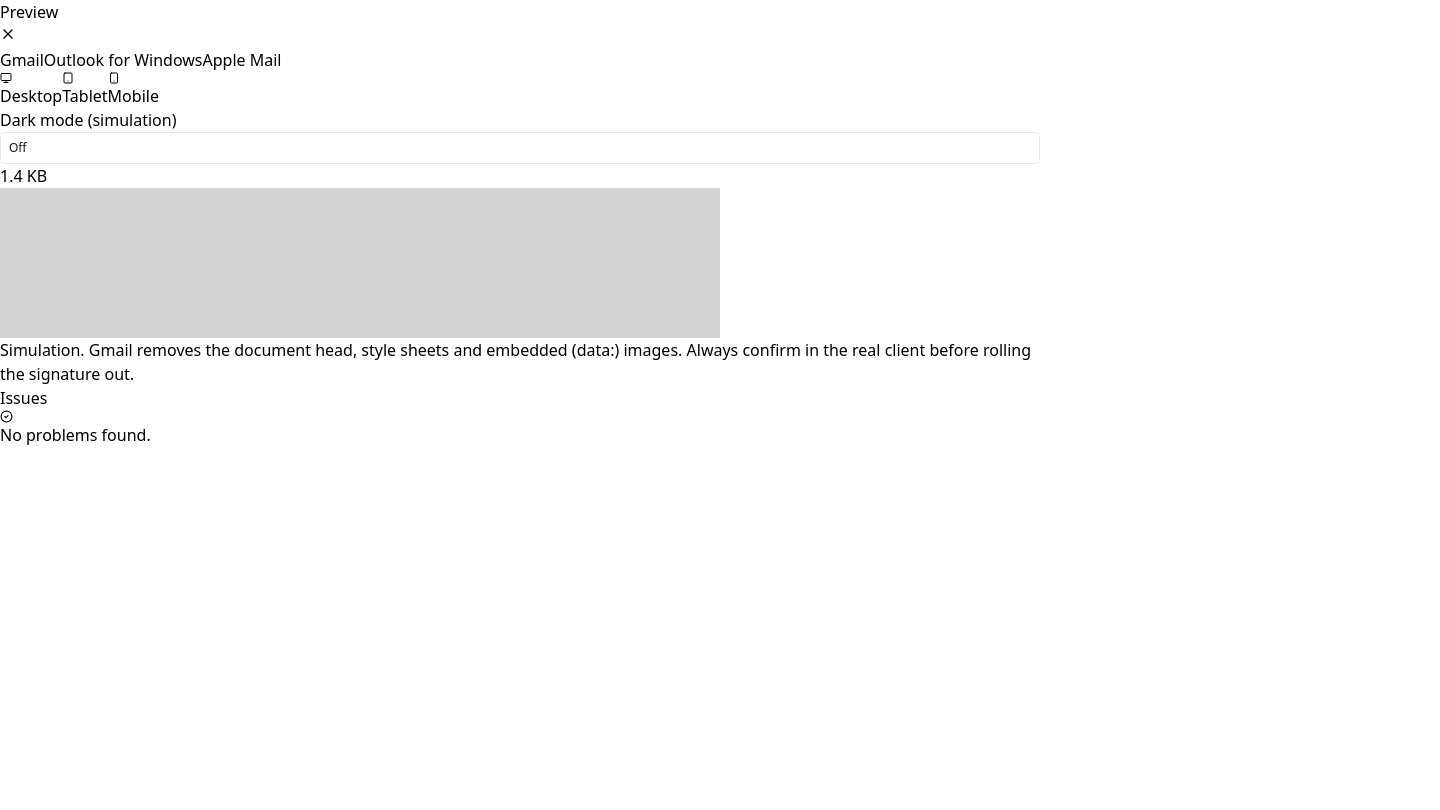
Preview → issues › labels the dark mode switch as a simulation and feeds the transforms into the iframe
Select "Full inversion (Gmail iOS / Outlook app)" in the dropdown labelled "Dark mode (simulation)": (520, 148) top-left (0, 132), bottom-right (1040, 164)
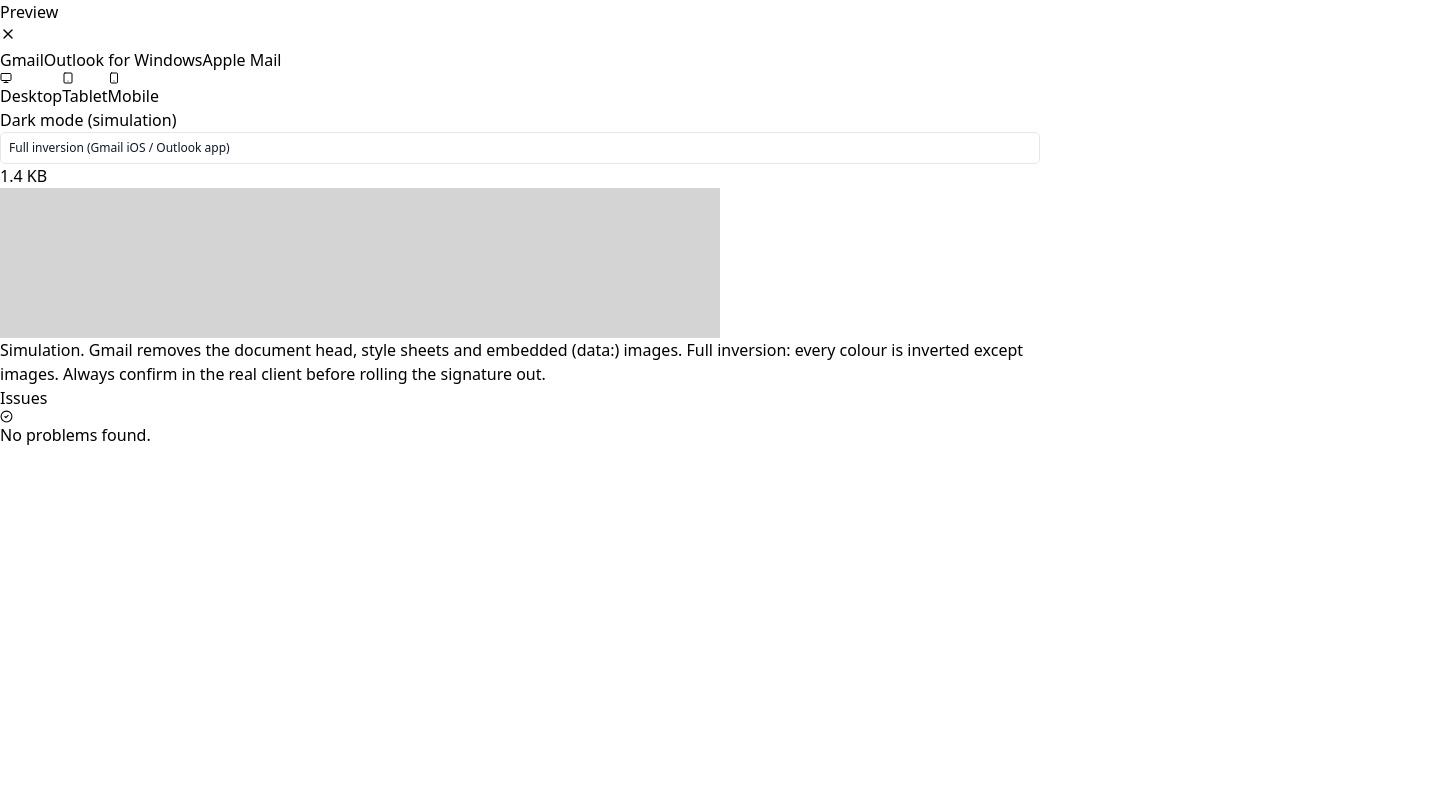
Click the tab "Outlook for Windows": (123, 60) top-left (44, 48), bottom-right (202, 72)
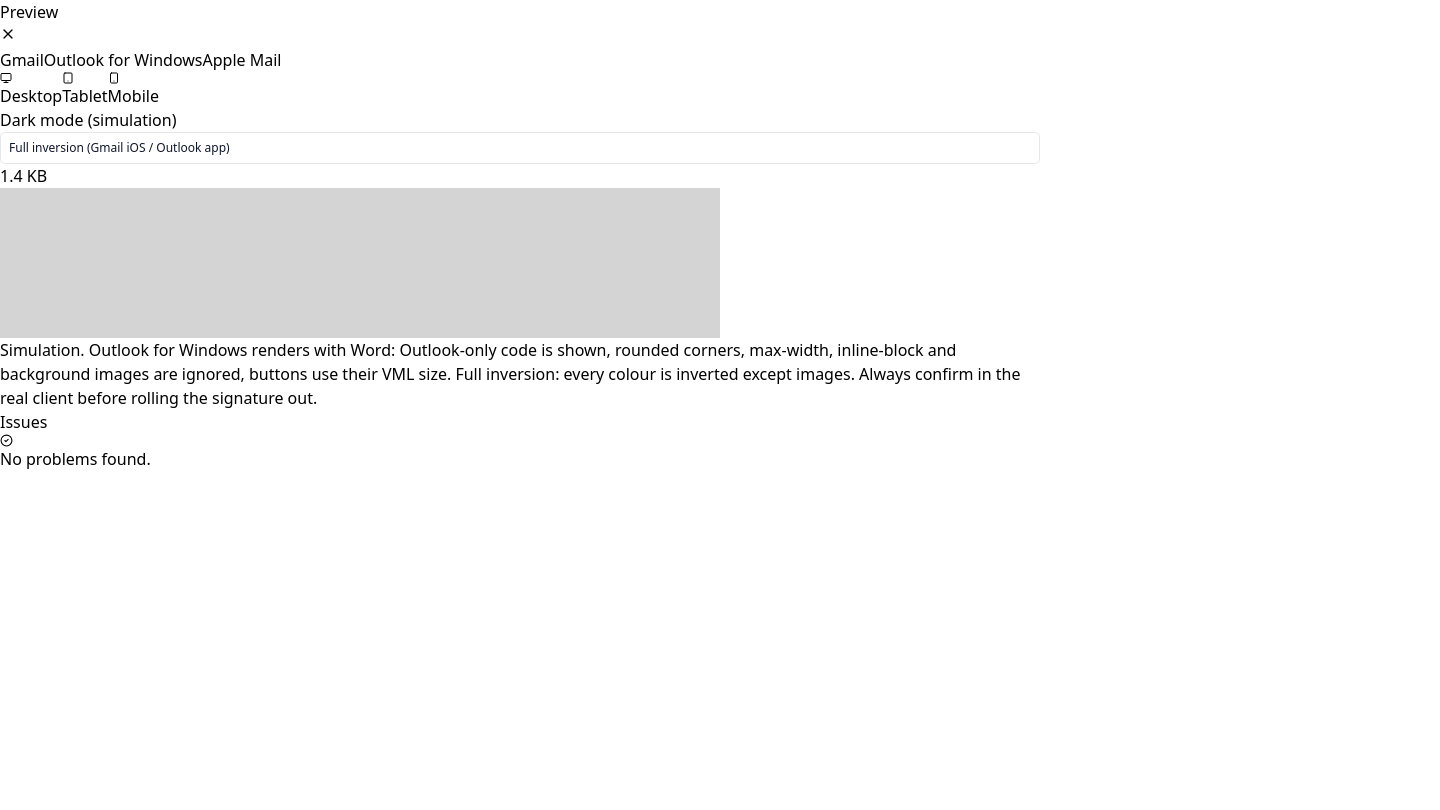
Click the button "Mobile": (133, 90) top-left (108, 72), bottom-right (159, 108)
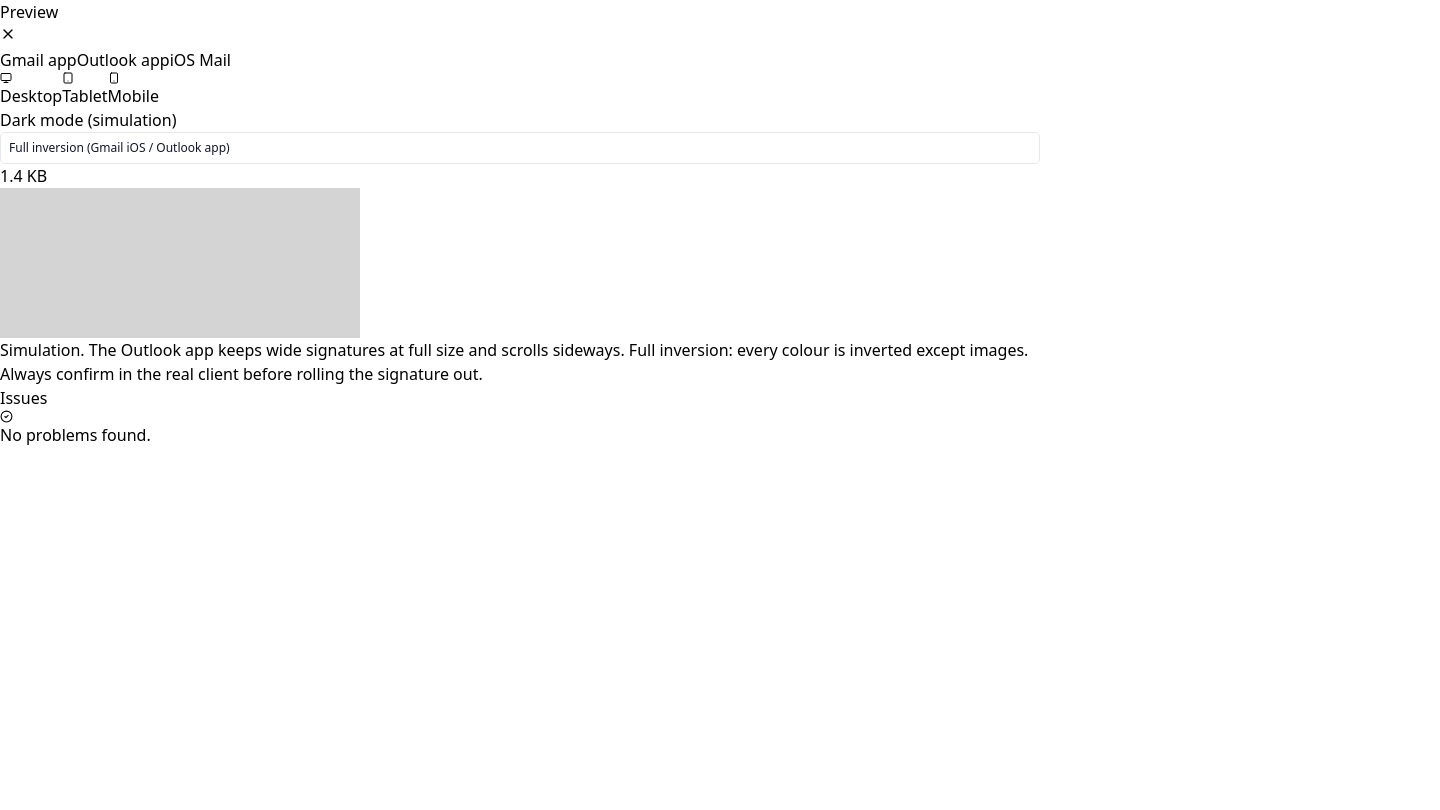
Expected: the tab "Outlook app" is shown, top-left (77, 48), bottom-right (170, 72)
